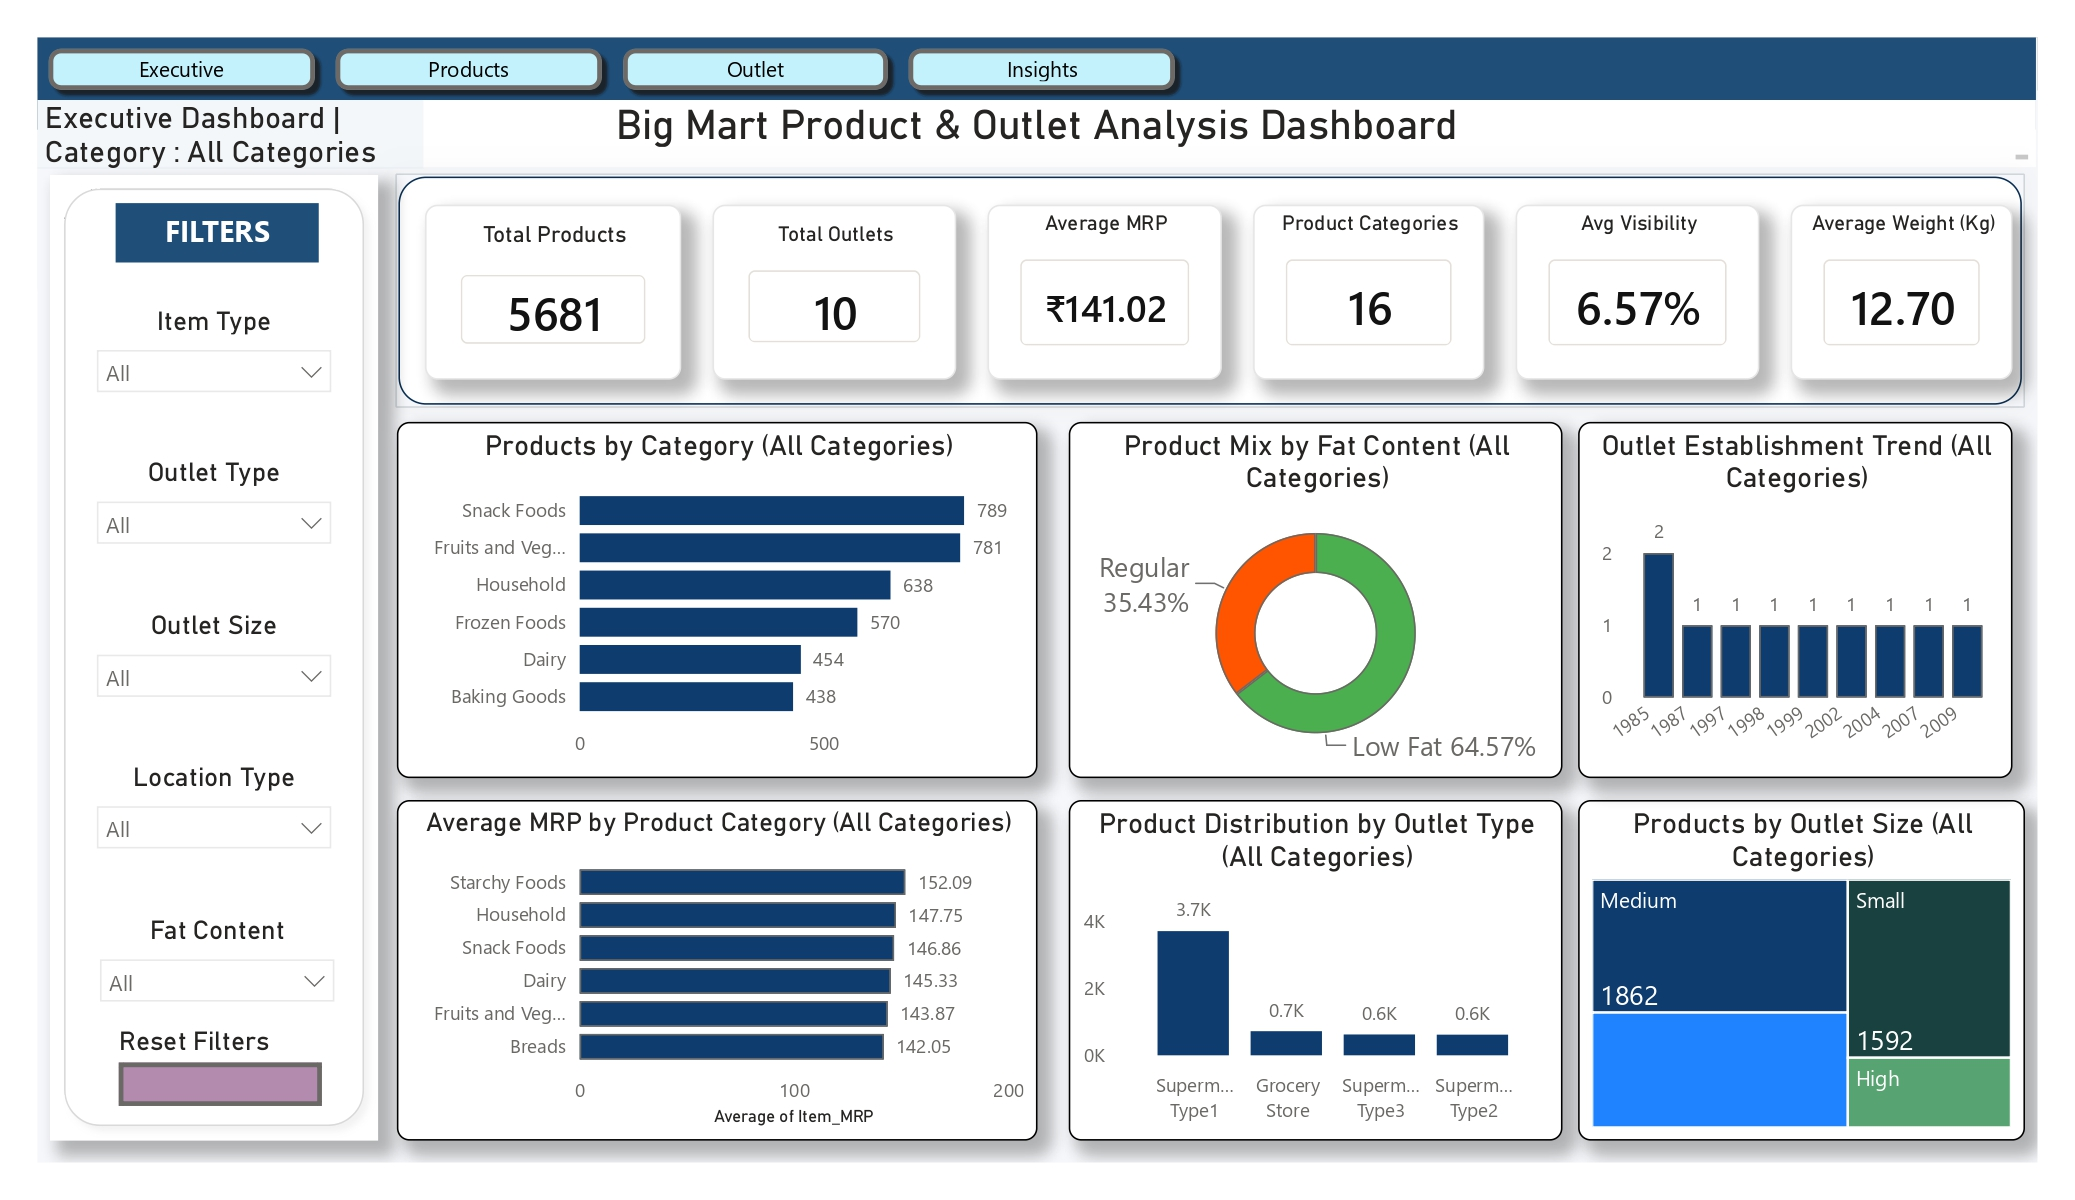

Layout of this report page (visuals, bound fields, positions):
{"tool":"powerbi","page":{"name":"Executive Dashboard","canvas":[1280,720],"ordinal":0},"visuals":[{"type":"shape","box":[0,0,1279.3,58.9],"z":0},{"type":"textbox","title":"Big Mart Product & Outlet Analysis Dashboard","box":[0,39.9,1279.3,43.3],"z":1000},{"type":"textbox","box":[0,40,247.4,43.7],"z":2000},{"type":"shape","box":[229.2,87.3,1042.4,149.2],"z":3000},{"type":"cardVisual","title":"Total Products","fields":{"Data":["Meaures.Total Records"]},"box":[248,106.8,164,112],"z":4000},{"type":"cardVisual","title":"Total Outlets","fields":{"Data":["Meaures.Total Outlets"]},"box":[432,106.8,156,112],"z":5000},{"type":"cardVisual","title":"Average MRP","fields":{"Data":["Meaures.Average MRP"]},"box":[608,106.8,150,112],"z":6000},{"type":"cardVisual","title":"Product Categories","fields":{"Data":["Meaures.Total Item Types"]},"box":[778,106.8,148,112],"z":7000},{"type":"cardVisual","title":"Avg Visibility","fields":{"Data":["Meaures.Average Visibility"]},"box":[946,106.8,156,112],"z":8000},{"type":"cardVisual","title":"Average Weight (Kg)","fields":{"Data":["Meaures.Average Weight"]},"box":[1122,106.8,142,112],"z":9000},{"type":"shape","box":[8,88,210,618],"z":10000},{"type":"textbox","box":[50,106,130,38],"z":11000},{"type":"slicer","title":"Item Type","fields":{"Values":["Big Mart Sales.Item_Type"]},"box":[28,170.8,170,64],"z":12000},{"type":"slicer","title":"Outlet Type","fields":{"Values":["Big Mart Sales.Outlet_Type"]},"box":[28,268.3,170,64],"z":13000},{"type":"slicer","title":"Outlet Size","fields":{"Values":["Big Mart Sales.Outlet_Size"]},"box":[28,365.8,170,64],"z":14000},{"type":"slicer","title":"Location Type","fields":{"Values":["Big Mart Sales.Outlet_Location_Type"]},"box":[28,463.3,170,64],"z":15000},{"type":"slicer","title":"Fat Content","fields":{"Values":["Big Mart Sales.Item_Fat_Content"]},"box":[30,560.8,170,72],"z":16000},{"type":"clusteredBarChart","fields":{"Category":["Big Mart Sales.Item_Type"],"Y":["CountNonNull(Big Mart Sales.Item_Identifier)"]},"box":[230,246,410,228],"z":17000},{"type":"donutChart","fields":{"Category":["Big Mart Sales.Item_Fat_Content"],"Y":["CountNonNull(Big Mart Sales.Item_Identifier)"]},"box":[660,246,316,228],"z":18000},{"type":"clusteredBarChart","fields":{"Category":["Big Mart Sales.Item_Type"],"Y":["Avg(Big Mart Sales.Item_MRP)","select"]},"box":[230,488,410,218],"z":19000},{"type":"clusteredColumnChart","fields":{"Category":["Big Mart Sales.Outlet_Type"],"Y":["CountNonNull(Big Mart Sales.Item_Identifier)"]},"box":[660,488,316,218],"z":20000},{"type":"treemap","fields":{"Values":["CountNonNull(Big Mart Sales.Item_Identifier)"],"Group":["Big Mart Sales.Outlet_Size"]},"box":[986,488,286,218],"z":21000},{"type":"clusteredColumnChart","fields":{"Category":["Big Mart Sales.Outlet_Establishment_Year"],"Y":["Count(Big Mart Sales.Outlet_Identifier)"]},"box":[986,246,278,228],"z":22000},{"type":"actionButton","title":"Executive","box":[183.8,0,183.8,39.9],"z":23000},{"type":"actionButton","title":"Executive","box":[0,0,183.8,39.9],"z":24000},{"type":"actionButton","title":"Executive","box":[367.5,0,183.8,39.9],"z":25000},{"type":"actionButton","title":"Executive","box":[551.3,0,183.8,39.9],"z":26000},{"type":"actionButton","title":"Reset Filters","box":[52,632,130,52],"z":26001}]}

Visuals, with their boxes on the page's 1280x720 design canvas (x1, y1, x2, y2). These are canvas units, not pixel positions in the 2075x1200 screenshot, which may show the page scaled, cropped or inside an application window:
shape: 0,0,1279,59
"Big Mart Product & Outlet Analysis Dashboard" textbox: 0,40,1279,83
textbox: 0,40,247,84
shape: 229,87,1272,236
"Total Products" cardVisual: 248,107,412,219
"Total Outlets" cardVisual: 432,107,588,219
"Average MRP" cardVisual: 608,107,758,219
"Product Categories" cardVisual: 778,107,926,219
"Avg Visibility" cardVisual: 946,107,1102,219
"Average Weight (Kg)" cardVisual: 1122,107,1264,219
shape: 8,88,218,706
textbox: 50,106,180,144
"Item Type" slicer: 28,171,198,235
"Outlet Type" slicer: 28,268,198,332
"Outlet Size" slicer: 28,366,198,430
"Location Type" slicer: 28,463,198,527
"Fat Content" slicer: 30,561,200,633
clusteredBarChart - Big Mart Sales.Item_Type x CountNonNull(Big Mart Sales.Item_Identifier): 230,246,640,474
donutChart - Big Mart Sales.Item_Fat_Content x CountNonNull(Big Mart Sales.Item_Identifier): 660,246,976,474
clusteredBarChart - Big Mart Sales.Item_Type x Avg(Big Mart Sales.Item_MRP): 230,488,640,706
clusteredColumnChart - Big Mart Sales.Outlet_Type x CountNonNull(Big Mart Sales.Item_Identifier): 660,488,976,706
treemap - CountNonNull(Big Mart Sales.Item_Identifier) x Big Mart Sales.Outlet_Size: 986,488,1272,706
clusteredColumnChart - Big Mart Sales.Outlet_Establishment_Year x Count(Big Mart Sales.Outlet_Identifier): 986,246,1264,474
"Executive" actionButton: 184,0,368,40
"Executive" actionButton: 0,0,184,40
"Executive" actionButton: 368,0,551,40
"Executive" actionButton: 551,0,735,40
"Reset Filters" actionButton: 52,632,182,684
